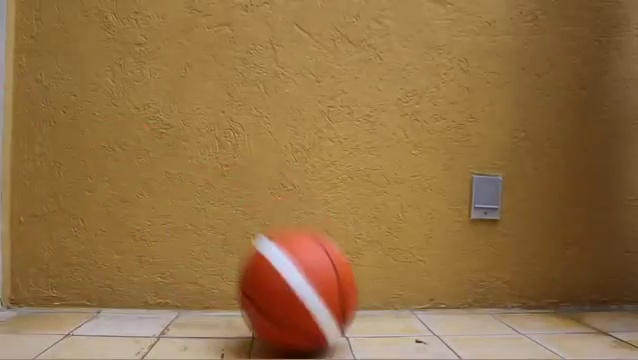ball: (239, 223, 359, 356)
